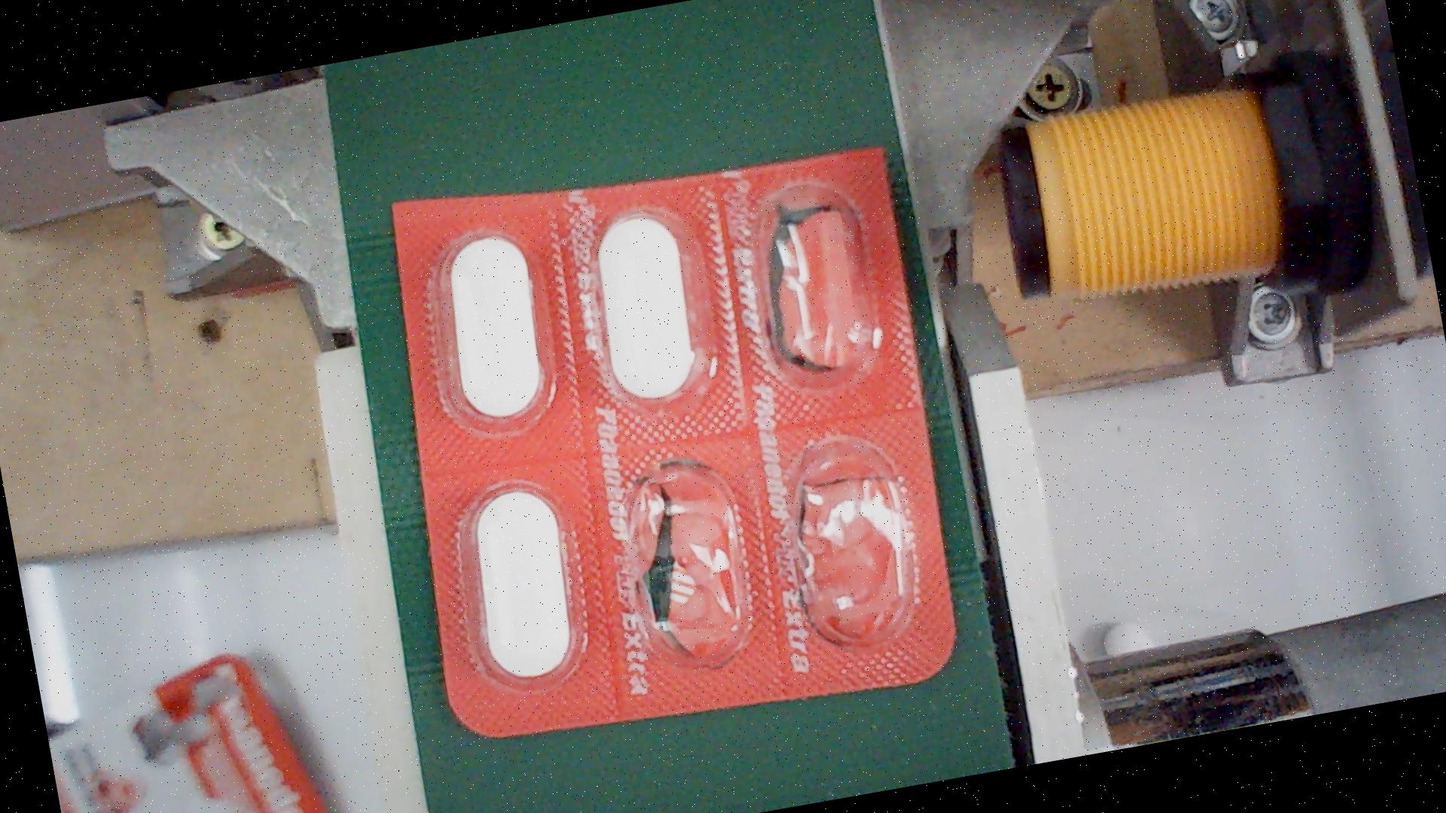Empty: (613, 453, 765, 683), (778, 425, 930, 655), (742, 168, 894, 398)
Full: (415, 210, 567, 440), (570, 188, 722, 418), (447, 467, 599, 697)
